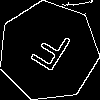F: (23, 26, 74, 81)
